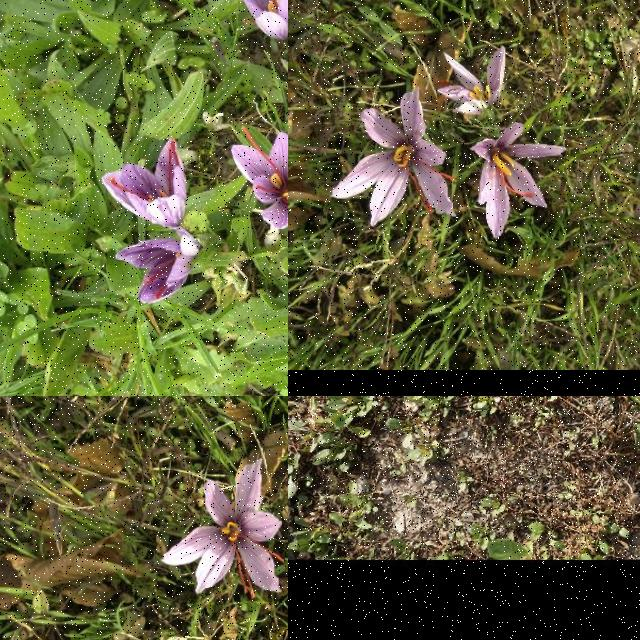flower: (160, 458, 286, 600), (332, 88, 458, 228), (469, 123, 568, 240), (102, 138, 188, 230), (116, 228, 200, 304), (231, 125, 288, 228), (436, 46, 506, 116), (244, 0, 288, 41)
